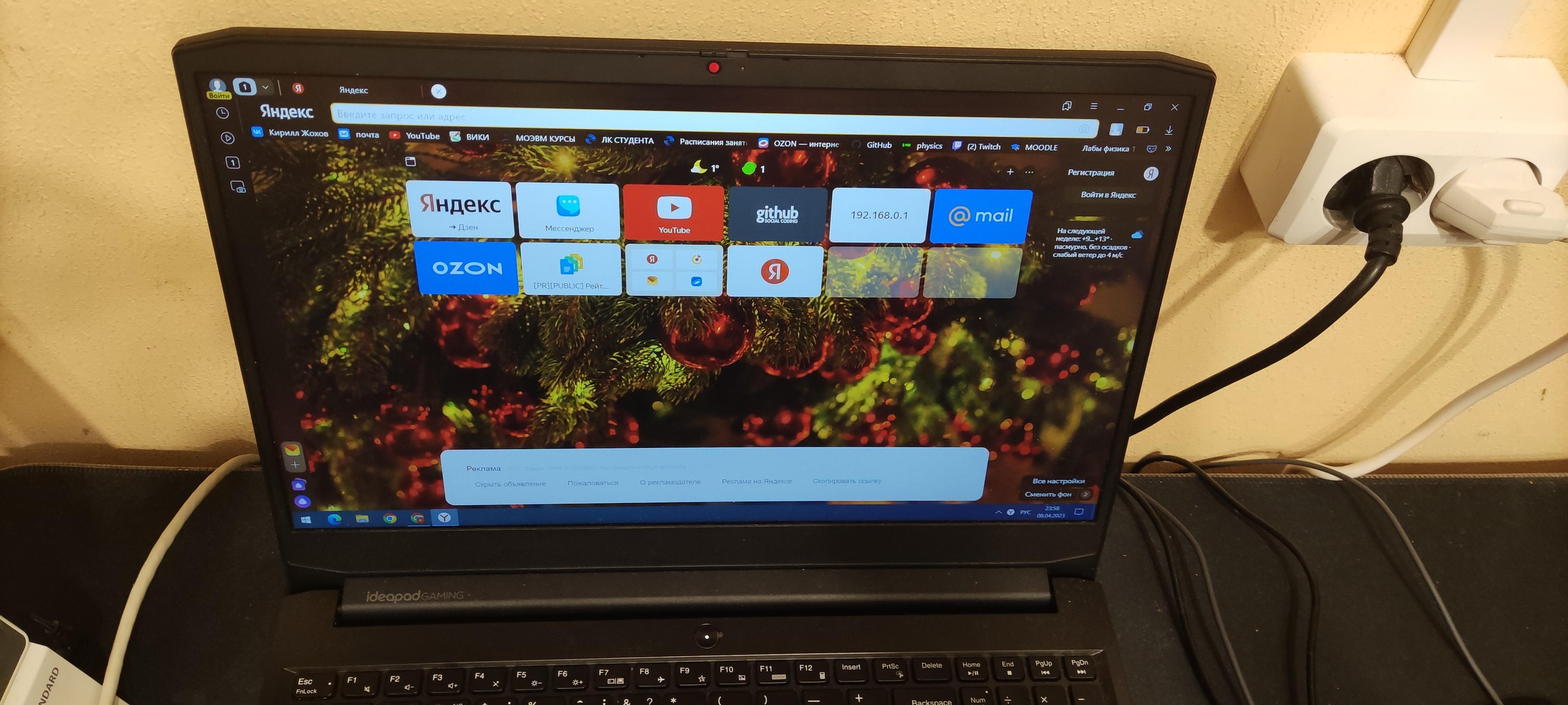monitor: (163, 20, 1217, 578)
